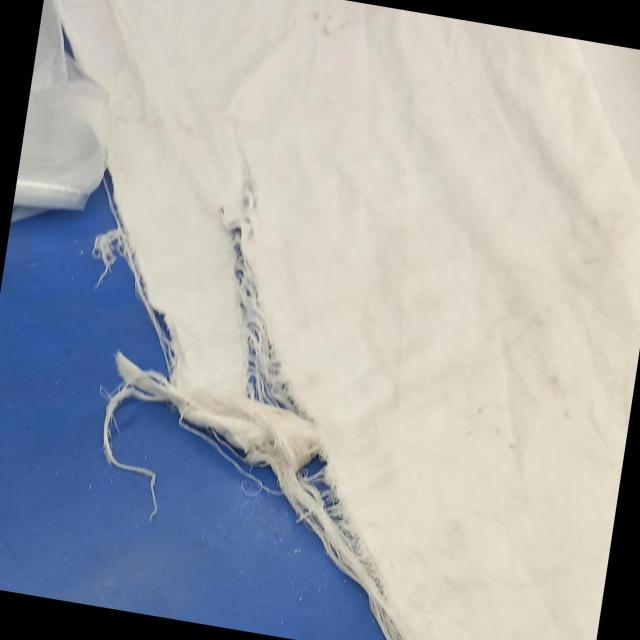cut: (193, 178, 326, 415), (267, 439, 419, 598), (67, 138, 163, 336), (29, 4, 108, 110)
